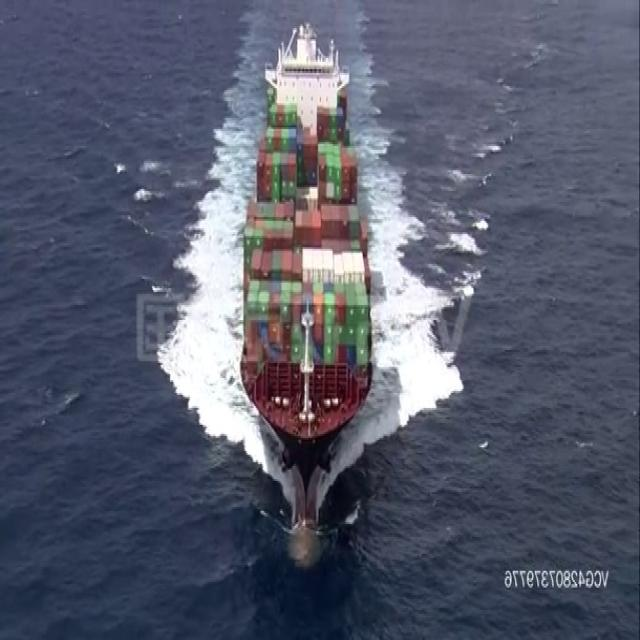cargoship: (241, 14, 374, 508)
